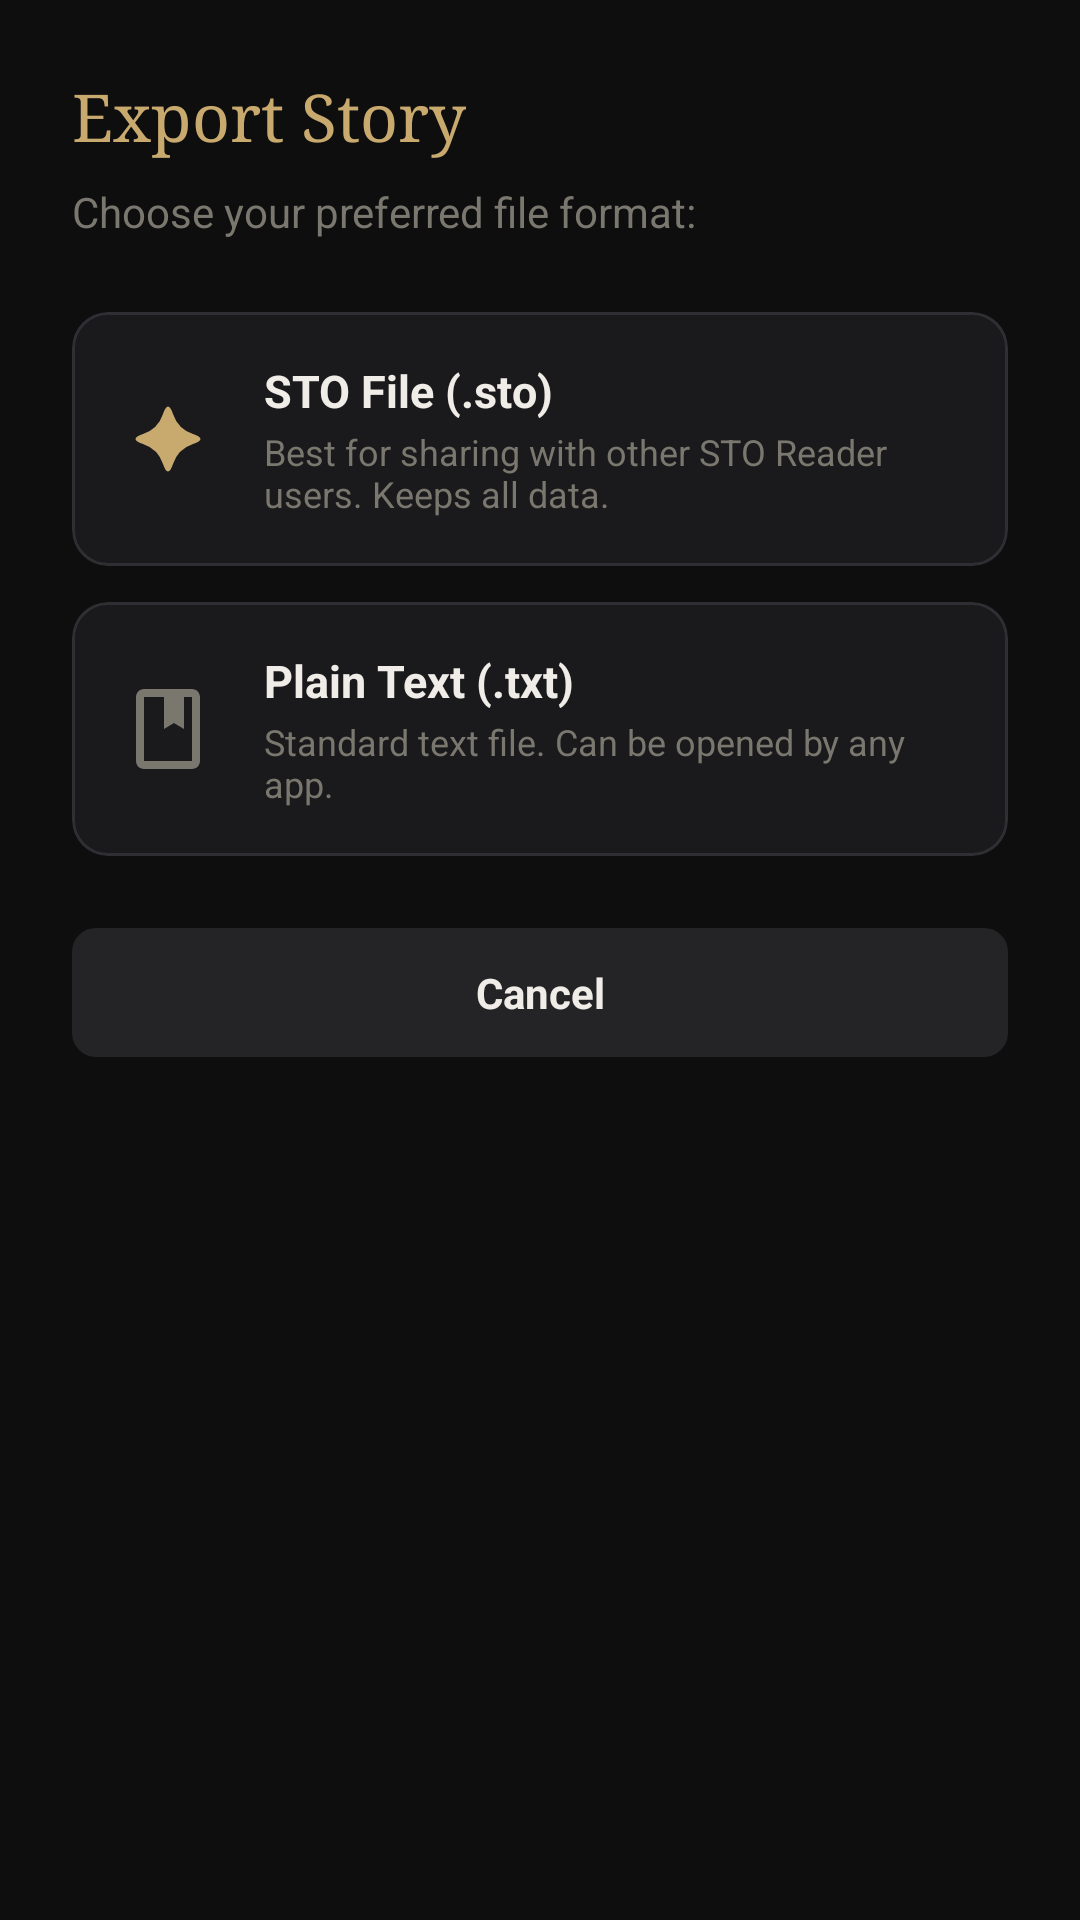

Icon click points for this 1080×1920 phone screenshot, format [x,y]:
read: [168,729]
star: [168,439]
